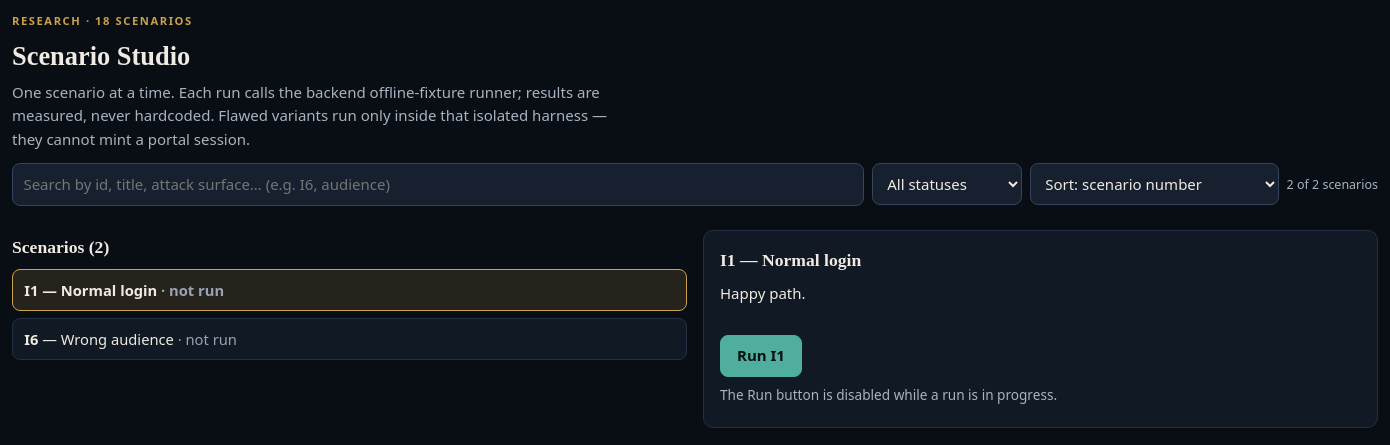
Test: ScenarioStudio › disables the Run button while a run is in progress
The width and height of the screenshot is (1390, 445).
Click the button "Run I1". click: x=761, y=356
box: [720, 335, 802, 377]
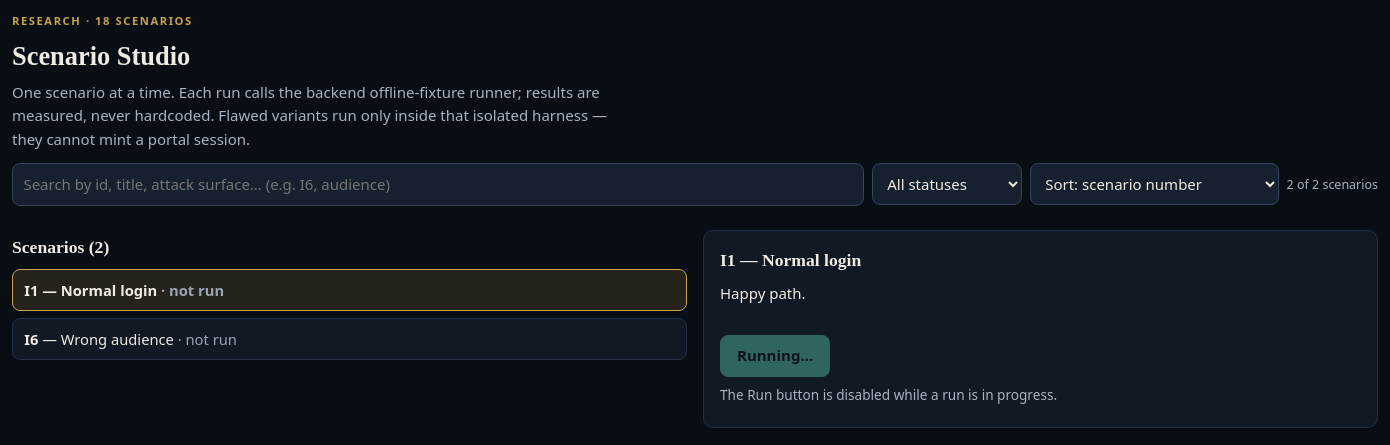
Now the button "Running…" is disabled, box [720, 335, 830, 377]
